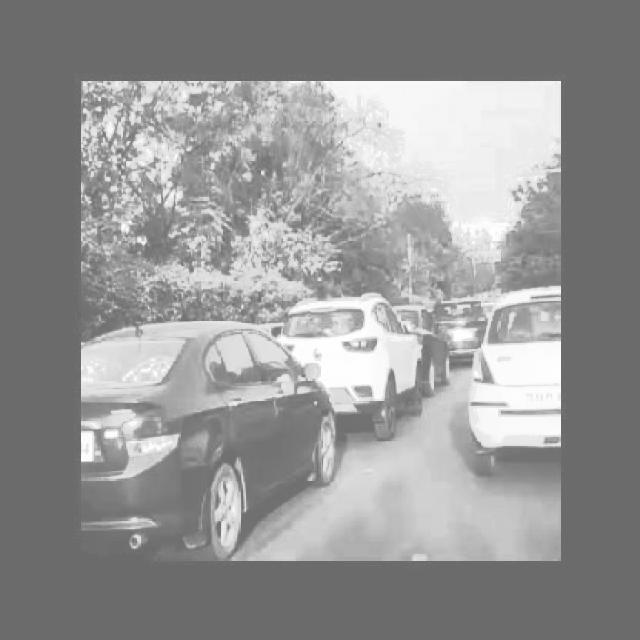Car: (68, 314, 334, 551), (468, 278, 563, 472), (301, 297, 437, 429), (440, 297, 486, 362)
